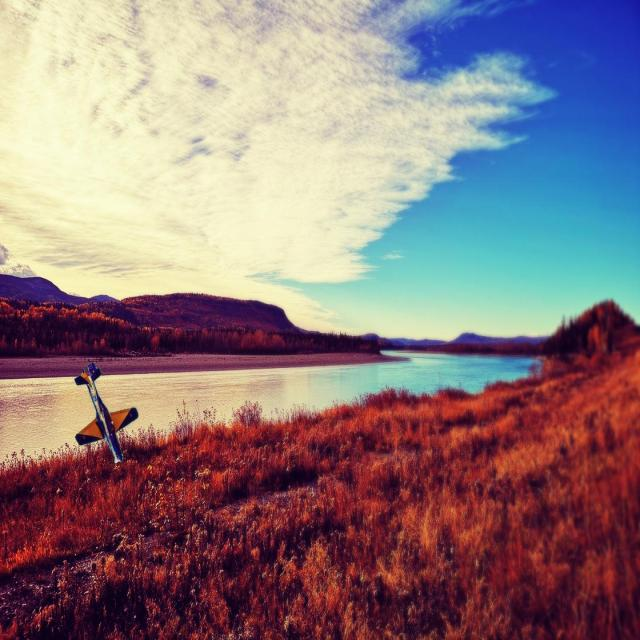airplane: (73, 362, 139, 464)
